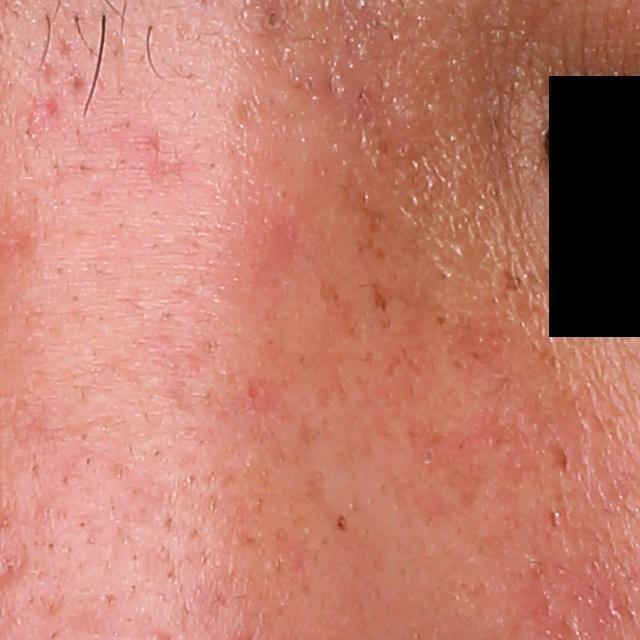comedo: (264, 6, 278, 31)
